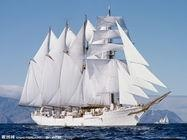fanchuan: (17, 2, 170, 130)
